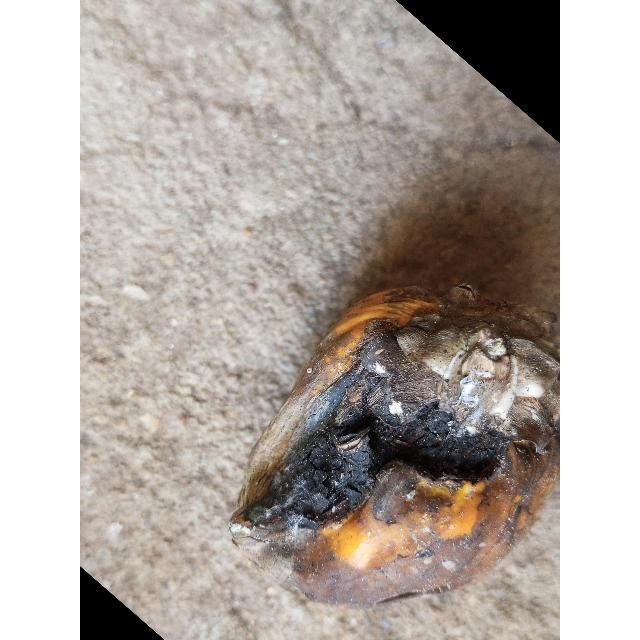damaged: (230, 314, 560, 609)
